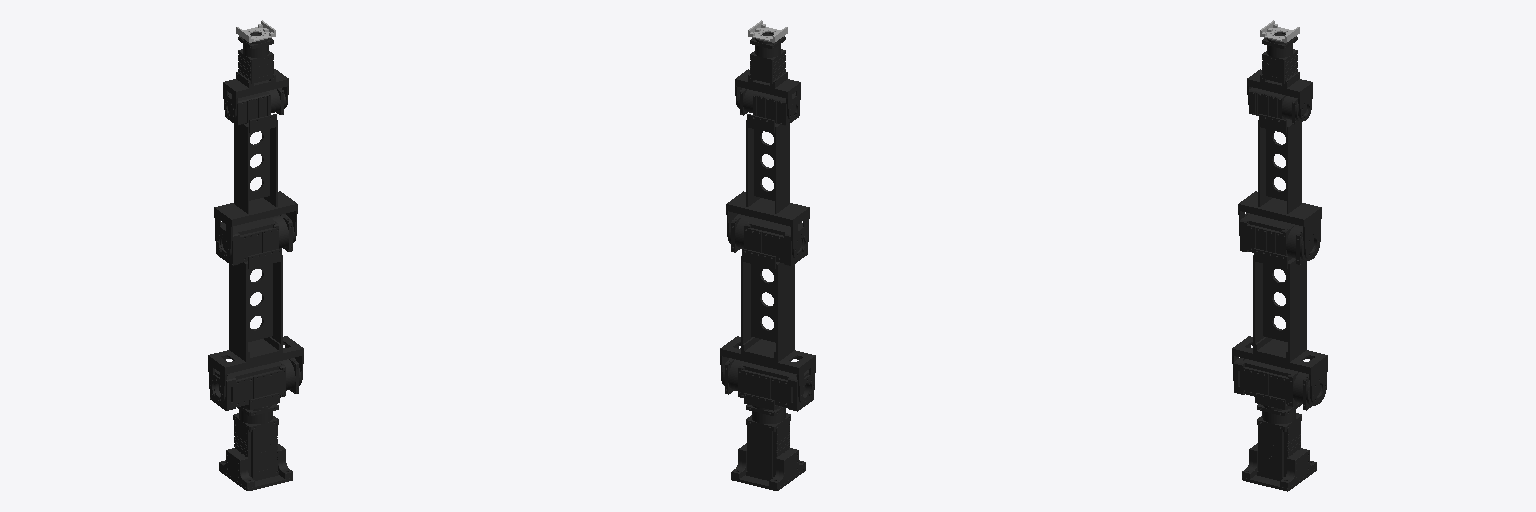
robot.urdf — 5dof_arm:
<?xml version="1.0"?>
<robot name="5dof_arm">

  <material name="dark_gray">
    <color rgba="0.2 0.2 0.2 1.0"/>
  </material>
  <material name="light_gray">
    <color rgba="0.7 0.7 0.7 1.0"/>
  </material>

  <!-- world fixed joint -->
  <link name="world"/>
  <joint name="world_joint" type="fixed">
    <origin xyz="0 0 0" rpy="0 0 0"/>
    <parent link="world"/>
    <child link="base_link"/>
  </joint>

  <!-- base_link -->
  <link name="base_link">
    <visual>
      <origin xyz="0 0 0" rpy="0 0 0"/>
      <geometry>
        <mesh filename="package://arm_5dof/meshes/base_link.stl" scale="0.001 0.001 0.001"/>
      </geometry>
      <material name="dark_gray"/>
    </visual>
    <collision>
      <origin xyz="0 0 0" rpy="0 0 0"/>
      <geometry>
        <mesh filename="package://arm_5dof/meshes/base_link.stl" scale="0.001 0.001 0.001"/>
      </geometry>
    </collision>
    <inertial>
      <origin xyz="0 0 0" rpy="0 0 0"/>
      <mass value="1.0"/>
      <inertia ixx="1.0" ixy="0" ixz="0"
               iyy="1.0" iyz="0"
               izz="1.0"/>
    </inertial>
  </link>

  <!-- link0: visual offset = -J0 절대좌표 -->
  <link name="link0">
    <visual>
      <origin xyz="0 -0.0005 -0.131" rpy="0 0 0"/>
      <geometry>
        <mesh filename="package://arm_5dof/meshes/link0.stl" scale="0.001 0.001 0.001"/>
      </geometry>
      <material name="dark_gray"/>
    </visual>
    <collision>
      <origin xyz="0 -0.0005 -0.131" rpy="0 0 0"/>
      <geometry>
        <mesh filename="package://arm_5dof/meshes/link0.stl" scale="0.001 0.001 0.001"/>
      </geometry>
    </collision>
    <inertial>
      <origin xyz="-0.00166076 -0.00127550 -0.03494810" rpy="0 0 0"/>
      <mass value="0.953077"/>
      <inertia
        ixx="5.159255e-03" ixy="2.158307e-05" ixz="7.896207e-04"
        iyy="5.327866e-03" iyz="-1.540990e-04"
        izz="6.453667e-04"/>
    </inertial>
  </link>

  <!-- link1: visual offset = -J1 절대좌표 -->
  <link name="link1">
    <visual>
      <origin xyz="-0.069 -0.0015 -0.164" rpy="0 0 0"/>
      <geometry>
        <mesh filename="package://arm_5dof/meshes/link1.stl" scale="0.001 0.001 0.001"/>
      </geometry>
      <material name="dark_gray"/>
    </visual>
    <collision>
      <origin xyz="-0.069 -0.0015 -0.164" rpy="0 0 0"/>
      <geometry>
        <mesh filename="package://arm_5dof/meshes/link1.stl" scale="0.001 0.001 0.001"/>
      </geometry>
    </collision>
    <inertial>
      <origin xyz="0.00020657 0.00264022 0.09988650" rpy="0 0 0"/>
      <mass value="1.313615"/>
      <inertia
        ixx="4.105084e-02" ixy="-9.571784e-06" ixz="9.581033e-04"
        iyy="4.160133e-02" iyz="2.130310e-04"
        izz="1.163477e-03"/>
    </inertial>
  </link>

  <!-- link2: visual offset = -J2 절대좌표 -->
  <link name="link2">
    <visual>
      <origin xyz="-0.0575 -0.0015 -0.4125" rpy="0 0 0"/>
      <geometry>
        <mesh filename="package://arm_5dof/meshes/link2.stl" scale="0.001 0.001 0.001"/>
      </geometry>
      <material name="dark_gray"/>
    </visual>
    <collision>
      <origin xyz="-0.0575 -0.0015 -0.4125" rpy="0 0 0"/>
      <geometry>
        <mesh filename="package://arm_5dof/meshes/link2.stl" scale="0.001 0.001 0.001"/>
      </geometry>
    </collision>
    <inertial>
      <origin xyz="-0.00070402 0.00107153 0.29442261" rpy="0 0 0"/>
      <mass value="0.848993"/>
      <inertia
        ixx="6.563250e-02" ixy="1.816882e-07" ixz="3.138284e-04"
        iyy="6.603089e-02" iyz="-1.444540e-04"
        izz="7.080727e-04"/>
    </inertial>
  </link>

  <!-- link3: visual offset = -J3 절대좌표 -->
  <link name="link3">
    <visual>
      <origin xyz="-0.0455 -0.0015 -0.644491" rpy="0 0 0"/>
      <geometry>
        <mesh filename="package://arm_5dof/meshes/link3.stl" scale="0.001 0.001 0.001"/>
      </geometry>
      <material name="dark_gray"/>
    </visual>
    <collision>
      <origin xyz="-0.0455 -0.0015 -0.644491" rpy="0 0 0"/>
      <geometry>
        <mesh filename="package://arm_5dof/meshes/link3.stl" scale="0.001 0.001 0.001"/>
      </geometry>
    </collision>
    <inertial>
      <origin xyz="0.00050190 -0.00086335 0.16206518" rpy="0 0 0"/>
      <mass value="0.371908"/>
      <inertia
        ixx="3.748271e-02" ixy="-5.366650e-07" ixz="-7.724617e-05"
        iyy="3.755020e-02" iyz="-1.771748e-04"
        izz="1.789698e-04"/>
    </inertial>
  </link>

  <!-- link4: visual offset = -J4 절대좌표 -->
  <link name="link4">
    <visual>
      <origin xyz="-0.0005 -0.0015 -0.763154" rpy="0 0 0"/>
      <geometry>
        <mesh filename="package://arm_5dof/meshes/link4.stl" scale="0.001 0.001 0.001"/>
      </geometry>
      <material name="light_gray"/>
    </visual>
    <collision>
      <origin xyz="-0.0005 -0.0015 -0.763154" rpy="0 0 0"/>
      <geometry>
        <mesh filename="package://arm_5dof/meshes/link4.stl" scale="0.001 0.001 0.001"/>
      </geometry>
    </collision>
    <inertial>
      <origin xyz="0.00050000 0.00150000 0.76650600" rpy="0 0 0"/>
      <mass value="0.017299"/>
      <inertia
        ixx="3.095422e-06" ixy="0" ixz="0"
        iyy="6.041748e-06" iyz="0"
        izz="8.821226e-06"/>
    </inertial>
  </link>

  <!-- J0: Roll -->
  <joint name="joint0" type="revolute">
    <origin xyz="0 0.0005 0.131" rpy="0 0 0"/>
    <axis xyz="0 0 1"/>
    <parent link="base_link"/>
    <child link="link0"/>
    <limit lower="-3.14159" upper="3.14159" effort="200" velocity="1.0"/>
    <dynamics damping="0.5" friction="0.5"/>
  </joint>

  <!-- J1: Pitch -->
  <joint name="joint1" type="revolute">
    <origin xyz="0.069 0.001 0.033" rpy="0 0 0"/>
    <axis xyz="1 0 0"/>
    <parent link="link0"/>
    <child link="link1"/>
    <limit lower="-1.5708" upper="1.5708" effort="200" velocity="1.0"/>
    <dynamics damping="0.5" friction="0.5"/>
  </joint>

  <!-- J2: Pitch -->
  <joint name="joint2" type="revolute">
    <origin xyz="-0.0115 0 0.2485" rpy="0 0 0"/>
    <axis xyz="1 0 0"/>
    <parent link="link1"/>
    <child link="link2"/>
    <limit lower="-1.5708" upper="1.5708" effort="100" velocity="1.0"/>
    <dynamics damping="0.3" friction="0.3"/>
  </joint>

  <!-- J3: Pitch -->
  <joint name="joint3" type="revolute">
    <origin xyz="-0.012 0 0.231991" rpy="0 0 0"/>
    <axis xyz="1 0 0"/>
    <parent link="link2"/>
    <child link="link3"/>
    <limit lower="-1.5708" upper="1.5708" effort="20" velocity="1.0"/>
    <dynamics damping="0.1" friction="0.1"/>
  </joint>

  <!-- J4: Roll -->
  <joint name="joint4" type="revolute">
    <origin xyz="-0.045 0 0.118663" rpy="0 0 0"/>
    <axis xyz="0 0 1"/>
    <parent link="link3"/>
    <child link="link4"/>
    <limit lower="-3.14159" upper="3.14159" effort="10" velocity="1.0"/>
    <dynamics damping="0.05" friction="0.05"/>
  </joint>

  <!-- ros2_control -->
  <ros2_control name="5dof_arm_control" type="system">
    <hardware>
      <plugin>gz_ros2_control/GazeboSimSystem</plugin>
    </hardware>
    <joint name="joint0">
      <command_interface name="position"/>
      <command_interface name="effort"/>
      <state_interface name="position"/>
      <state_interface name="velocity"/>
    </joint>
    <joint name="joint1">
      <command_interface name="position"/>
      <command_interface name="effort"/>
      <state_interface name="position"/>
      <state_interface name="velocity"/>
    </joint>
    <joint name="joint2">
      <command_interface name="position"/>
      <command_interface name="effort"/>
      <state_interface name="position"/>
      <state_interface name="velocity"/>
    </joint>
    <joint name="joint3">
      <command_interface name="position"/>
      <command_interface name="effort"/>
      <state_interface name="position"/>
      <state_interface name="velocity"/>
    </joint>
    <joint name="joint4">
      <command_interface name="position"/>
      <command_interface name="effort"/>
      <state_interface name="position"/>
      <state_interface name="velocity"/>
    </joint>
  </ros2_control>

  <!-- Gazebo plugin -->
  <gazebo>
    <plugin filename="libgz_ros2_control-system.so" name="gz_ros2_control::GazeboSimROS2ControlPlugin">
      <parameters>package://arm_5dof/config/controllers.yaml</parameters>
    </plugin>
  </gazebo>

</robot>

--- What the picture shows (computed from the rendered views, not written in the file) ---
Views: 3 orthographic renders of the robot side by side, from view 1: azimuth 30°, elevation 25°; view 2: azimuth 150°, elevation 25°; view 3: azimuth 330°, elevation 25°.
Model 5dof_arm with 7 links and 6 joints (5 revolute, 1 fixed), rooted at world, posed all joints at 0.
Visible links, largest first — view 1: link1, link2, base_link, link0, link3; view 2: link1, link2, base_link, link0, link3; view 3: link1, link2, base_link, link0, link3.
Link boxes in pixels (<box>): link1: <box>208,214,303,402</box>; link2: <box>214,88,297,257</box>; base_link: <box>219,404,292,490</box>; link0: <box>210,358,300,410</box>; link3: <box>223,32,288,118</box>; link1: <box>720,214,815,402</box>; link2: <box>726,88,809,258</box>; base_link: <box>731,404,805,490</box>; link0: <box>723,358,813,411</box>; link3: <box>735,32,800,118</box>; link1: <box>1232,213,1327,404</box>; link2: <box>1238,87,1321,259</box>; base_link: <box>1242,403,1316,491</box>; link0: <box>1234,358,1321,410</box>; link3: <box>1247,32,1312,120</box>.
Size in the robot's own frame: 0.143 by 0.0905 by 0.7742 metres.
6 mesh visuals loaded from 6 distinct referenced files (6 binary STL).
